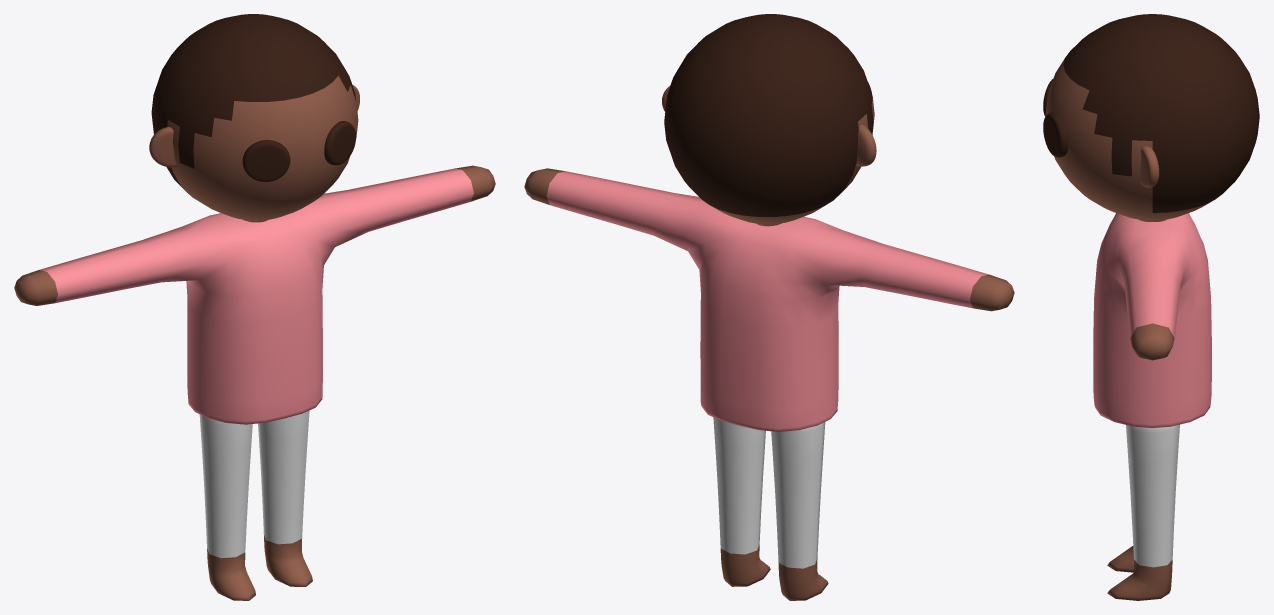
Rendered from Boy.fbx.
The picture shows the model from 3 angles, left to right: view 1: azimuth 30°, elevation 25°; view 2: azimuth 150°, elevation 25°; view 3: azimuth 270°, elevation 25°; orthographic projection.
Visible parts, largest first — view 1: Cube, Sphere, Cube.001, Cylinder.001, Cylinder.002; view 2: Cube, Sphere, Cube.001, Cylinder.002; view 3: Sphere, Cube, Cube.001, Cylinder.001, Cylinder.002.
Boxes of the visible parts, x1,y1,x2,y2 form: Cube: [14, 165, 495, 424]; Sphere: [151, 14, 358, 222]; Cube.001: [199, 410, 312, 600]; Cylinder.001: [242, 121, 355, 181]; Cylinder.002: [149, 85, 359, 167]; Cube: [524, 168, 1014, 431]; Sphere: [664, 14, 874, 226]; Cube.001: [713, 417, 828, 600]; Cylinder.002: [662, 86, 876, 166]; Sphere: [1045, 14, 1259, 221]; Cube: [1093, 213, 1211, 428]; Cube.001: [1107, 424, 1179, 600]; Cylinder.001: [1043, 79, 1068, 157]; Cylinder.002: [1140, 146, 1159, 187].
Bounding box in the file's own units: 534 × 600 × 211.
